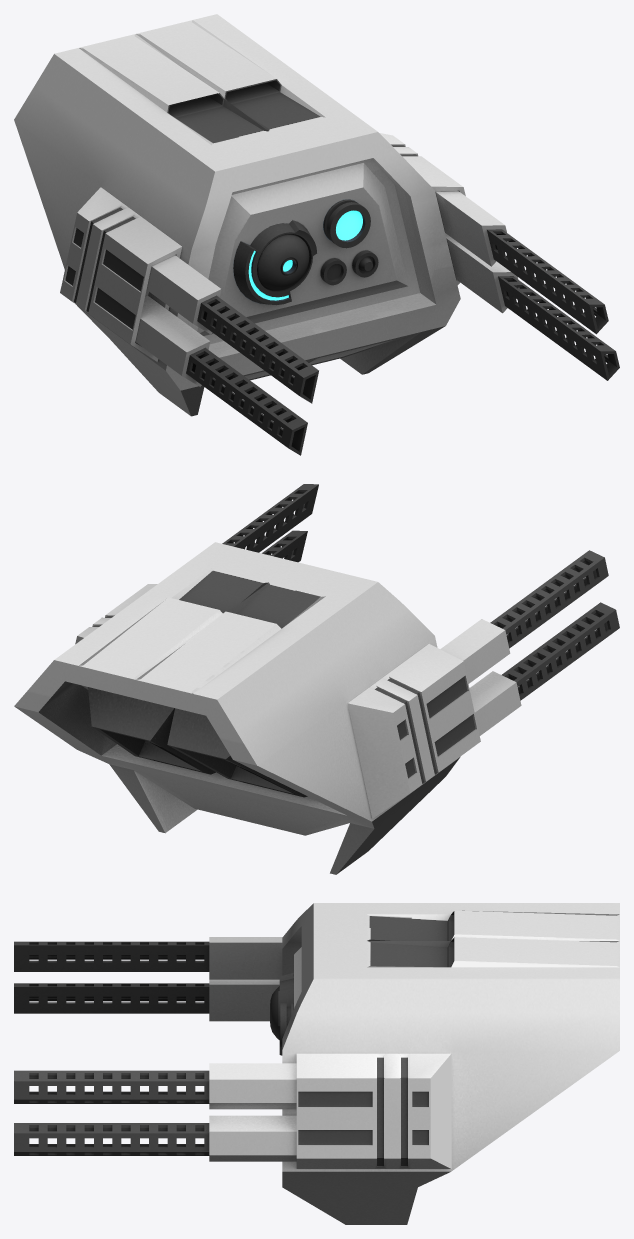
The model's file is Drone.fbx.
The picture shows the model from 3 angles, top to bottom: view 1: azimuth 30°, elevation 25°; view 2: azimuth 150°, elevation 25°; view 3: azimuth 270°, elevation 25°; orthographic projection. The views are drawn at different scales.
Visible parts, largest first — view 1: Body, Arms.R, Arms.L; view 2: Body, Arms.R, Arms.L; view 3: Body, Arms.L, Arms.R.
Part boxes in pixels (x1=…): Body: x1=14, y1=14, x2=460, y2=416; Arms.R: x1=60, y1=187, x2=318, y2=455; Arms.L: x1=379, y1=133, x2=619, y2=380; Body: x1=14, y1=542, x2=460, y2=874; Arms.R: x1=347, y1=550, x2=619, y2=818; Arms.L: x1=75, y1=484, x2=318, y2=644; Body: x1=270, y1=903, x2=619, y2=1224; Arms.L: x1=14, y1=1053, x2=451, y2=1168; Arms.R: x1=14, y1=937, x2=282, y2=1021.
Bounding box in the file's own units: 100 × 71.2 × 158.
Materials: 1 (1 with a texture image).
